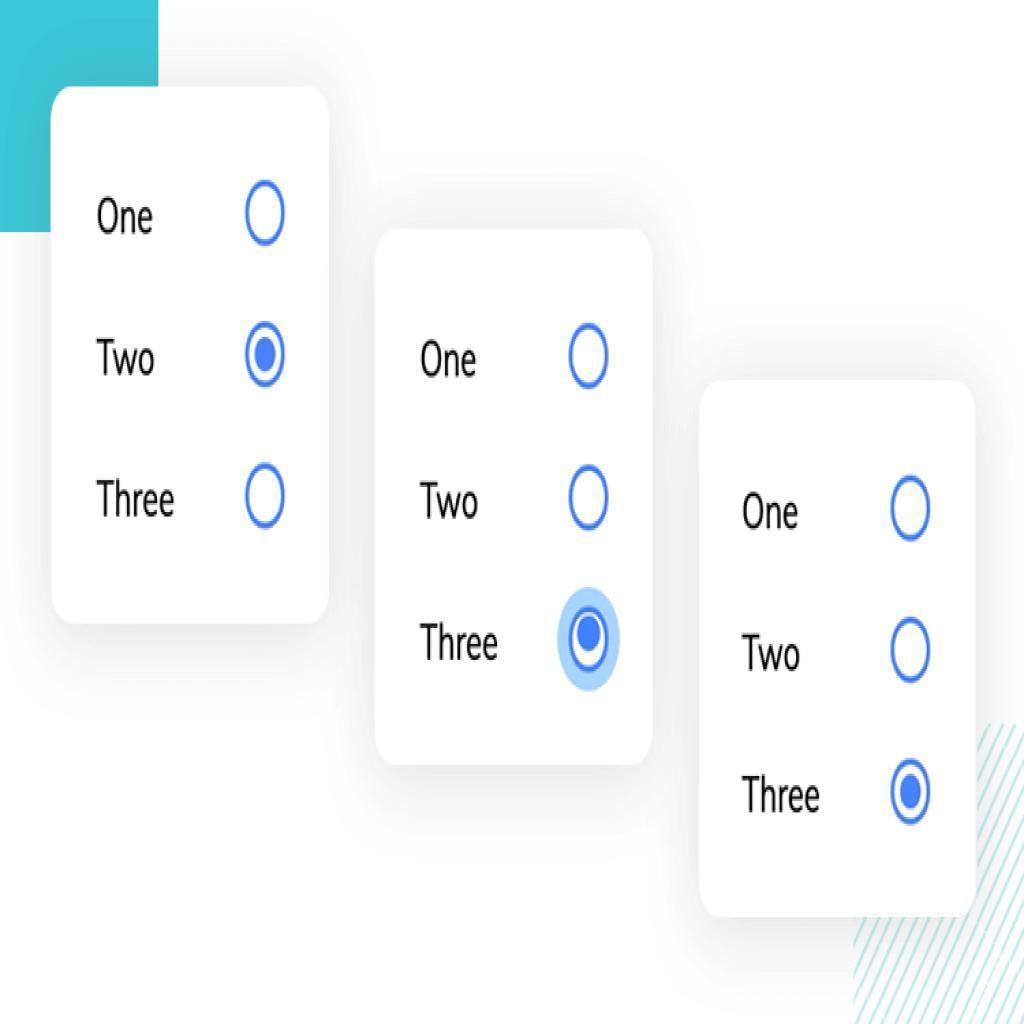label: (741, 767, 829, 822), (95, 474, 183, 526), (421, 621, 506, 670), (735, 625, 808, 680), (93, 195, 165, 246), (738, 487, 810, 537), (415, 334, 485, 384), (420, 470, 482, 525), (95, 335, 160, 382)
radio: (555, 586, 623, 693), (886, 755, 935, 828), (888, 617, 936, 686), (890, 472, 934, 545), (567, 464, 612, 533), (244, 178, 287, 250), (567, 323, 610, 395), (244, 319, 286, 392), (244, 463, 288, 532)
